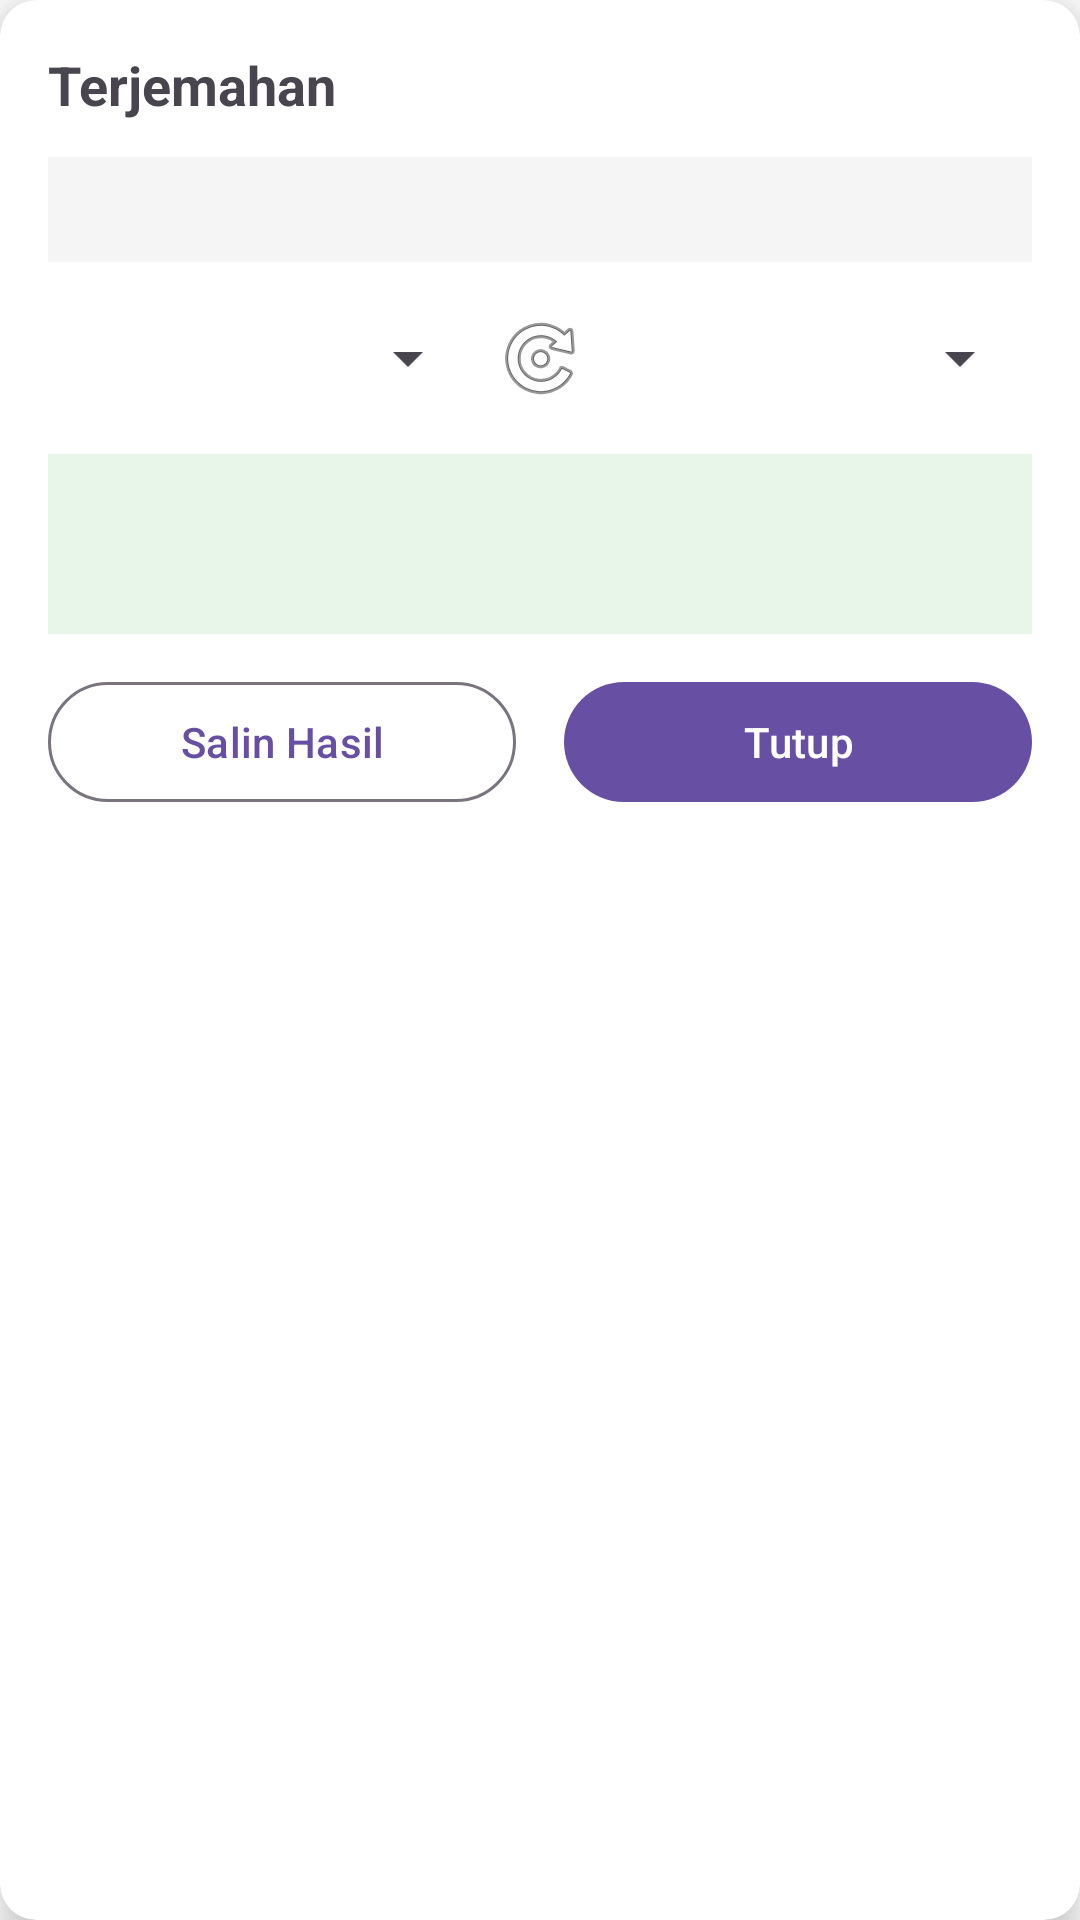

Where icons sit on this 1080 x 1920 app screen, as (x1, y1, x2, y2):
Tukar: (505, 323, 575, 394)
